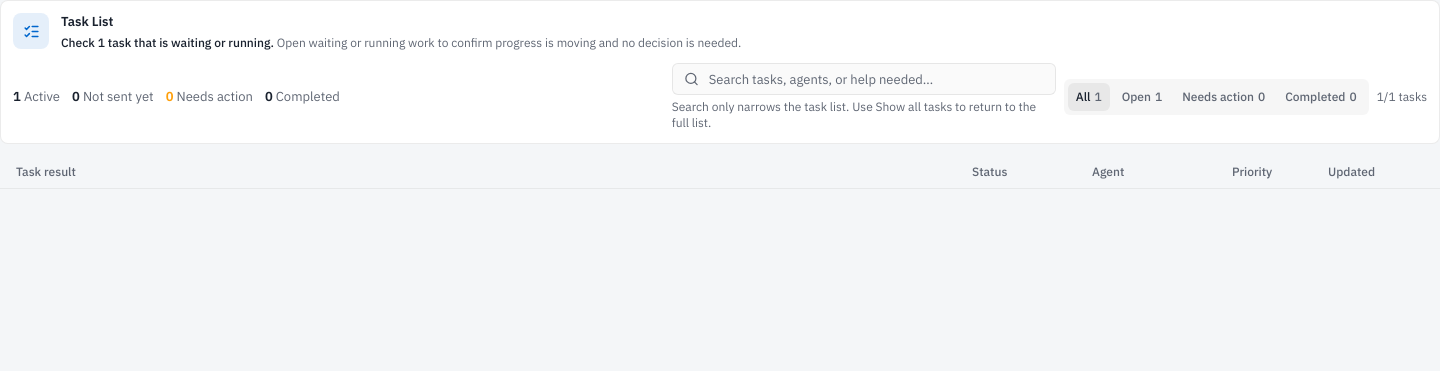
it: ListView › explains search-only and filter-only empty task lists
This screenshot has width=1440, height=371.
In the search field named "search task list": (864, 79) [672,63,1056,95], type "missing task"
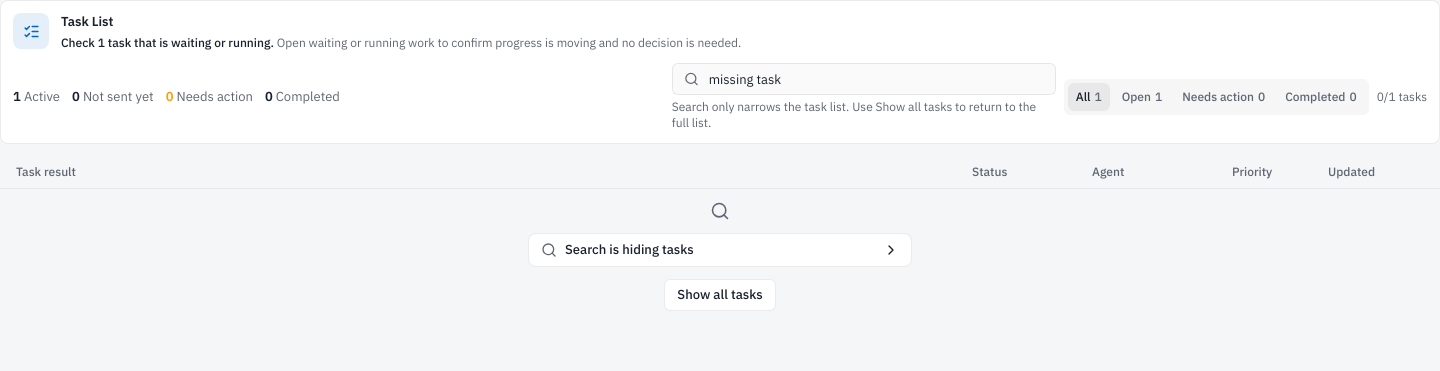
Expected: the button "Search is hiding tasks" is shown
Click the button "Search is hiding tasks": (629, 250) [529,234,911,266]
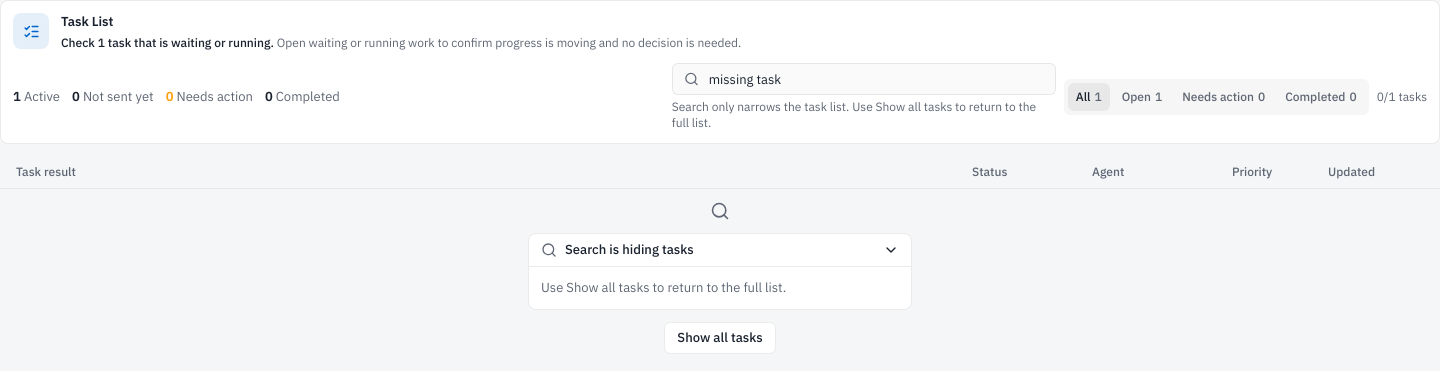
Expected: the text "Search is hiding tasks" is shown, [565,241,694,258]
Expected: the button "Search is hiding tasks" is expanded, [529,234,911,266]
Expected: the message with test id "list-filter-empty" shows "Use Show all tasks to return to the full list.", [541,279,786,296]
Click the button "Show all tasks": (720, 338) [664,322,776,354]
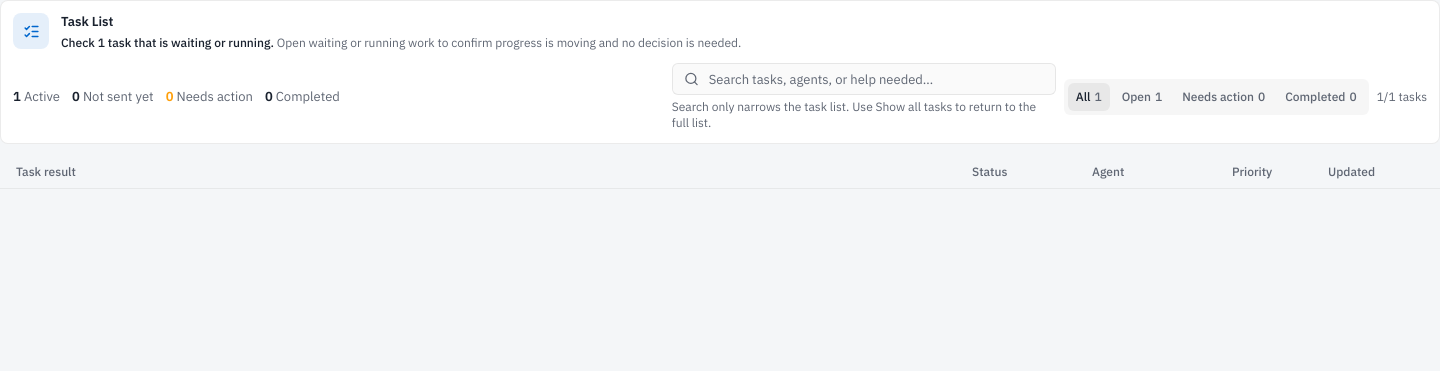
Expected: the search field named "search task list" is empty, [672,63,1056,95]
Click the button with aria-label "show completed tasks, 0 matching tasks": (1321, 97) [1277,83,1365,111]
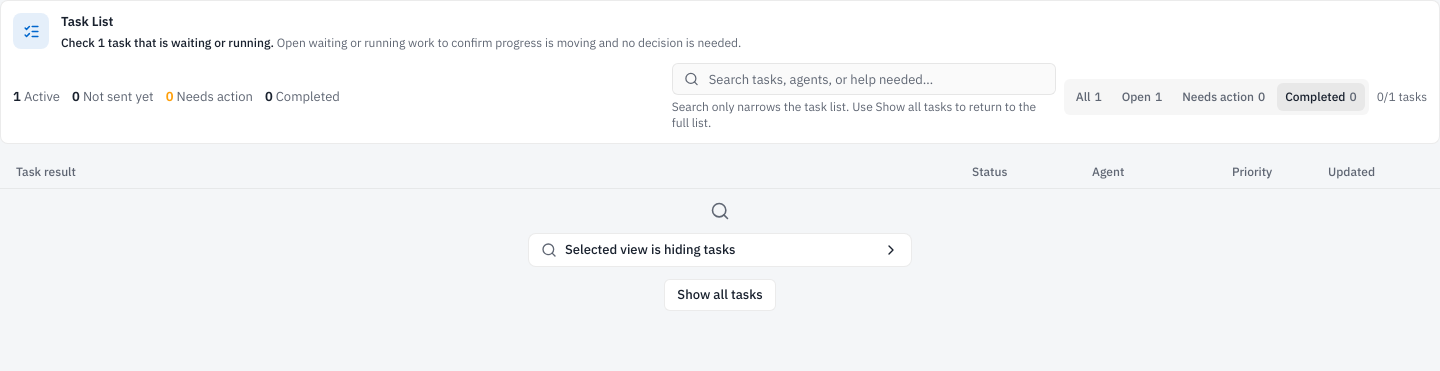
Expected: the button "Selected view is hiding tasks" is shown
Click the button "Selected view is hiding tasks": (720, 250) [529,234,911,266]
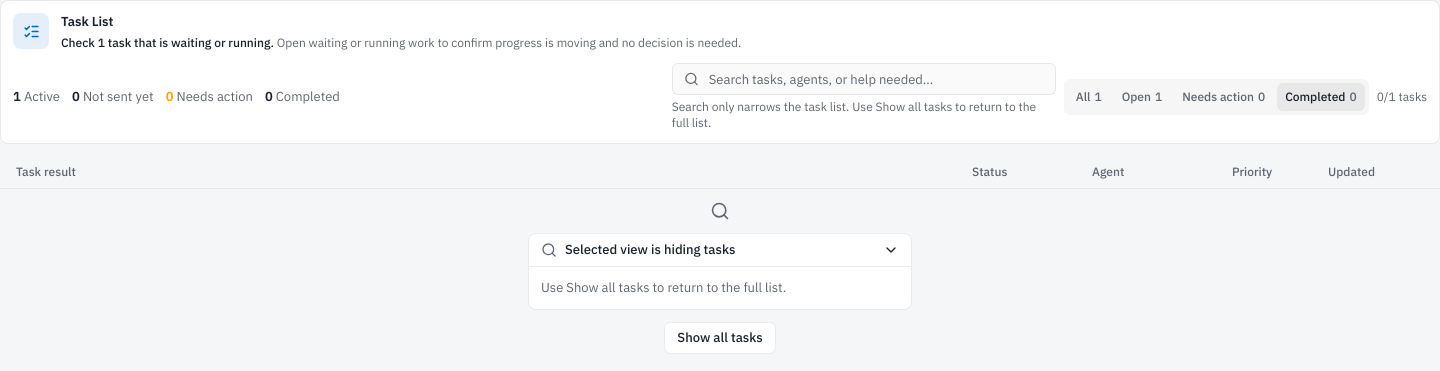
Expected: the text "Selected view is hiding tasks" is shown, [565,241,735,258]
Expected: the button "Selected view is hiding tasks" is expanded, [529,234,911,266]
Expected: the message with test id "list-filter-empty" shows "Use Show all tasks to return to the full list.", [541,279,786,296]
